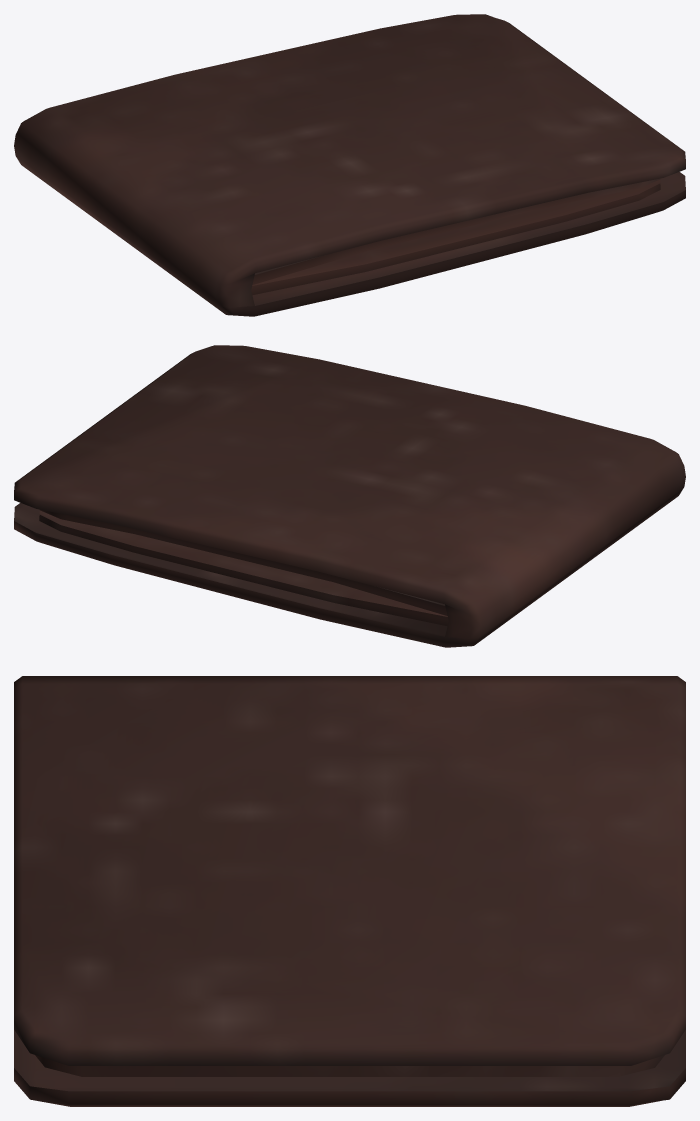
File: Wallet_Asset.fbx
3 renders of one model, top to bottom at view 1: azimuth 30°, elevation 25°; view 2: azimuth 150°, elevation 25°; view 3: azimuth 270°, elevation 25°, orthographic. The views are drawn at different scales.
Visible parts, largest first — view 1: Wallet; view 2: Wallet; view 3: Wallet.
Boxes of the visible parts, x1=… form: Wallet: x1=14, y1=14, x2=685, y2=316; Wallet: x1=14, y1=345, x2=685, y2=647; Wallet: x1=14, y1=676, x2=685, y2=1106.
Bounding box in the file's own units: 13.2 × 10 × 1.67.
Materials: 1 (1 with a texture image).
